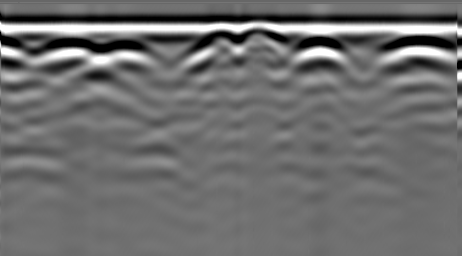pipe: (197, 24, 240, 51), (243, 24, 287, 50)
steel: (380, 34, 457, 69), (292, 35, 351, 71), (100, 39, 158, 68), (43, 38, 97, 63)
